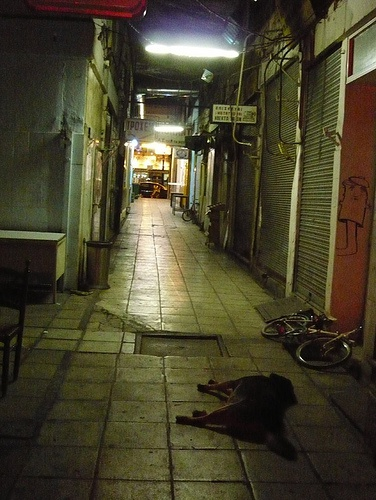non-vehicle: (261, 309, 361, 367), (182, 202, 197, 223)
